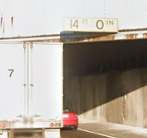0: (95, 17, 105, 31)
1: (67, 17, 73, 29)
4: (72, 17, 80, 30)
overheadsign: (60, 15, 118, 34)
